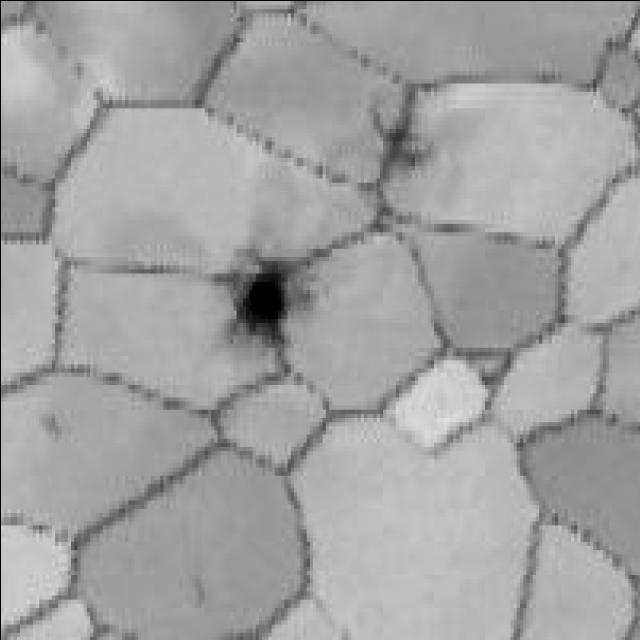good_void: (225, 251, 297, 350), (370, 111, 429, 172), (36, 412, 69, 439)
